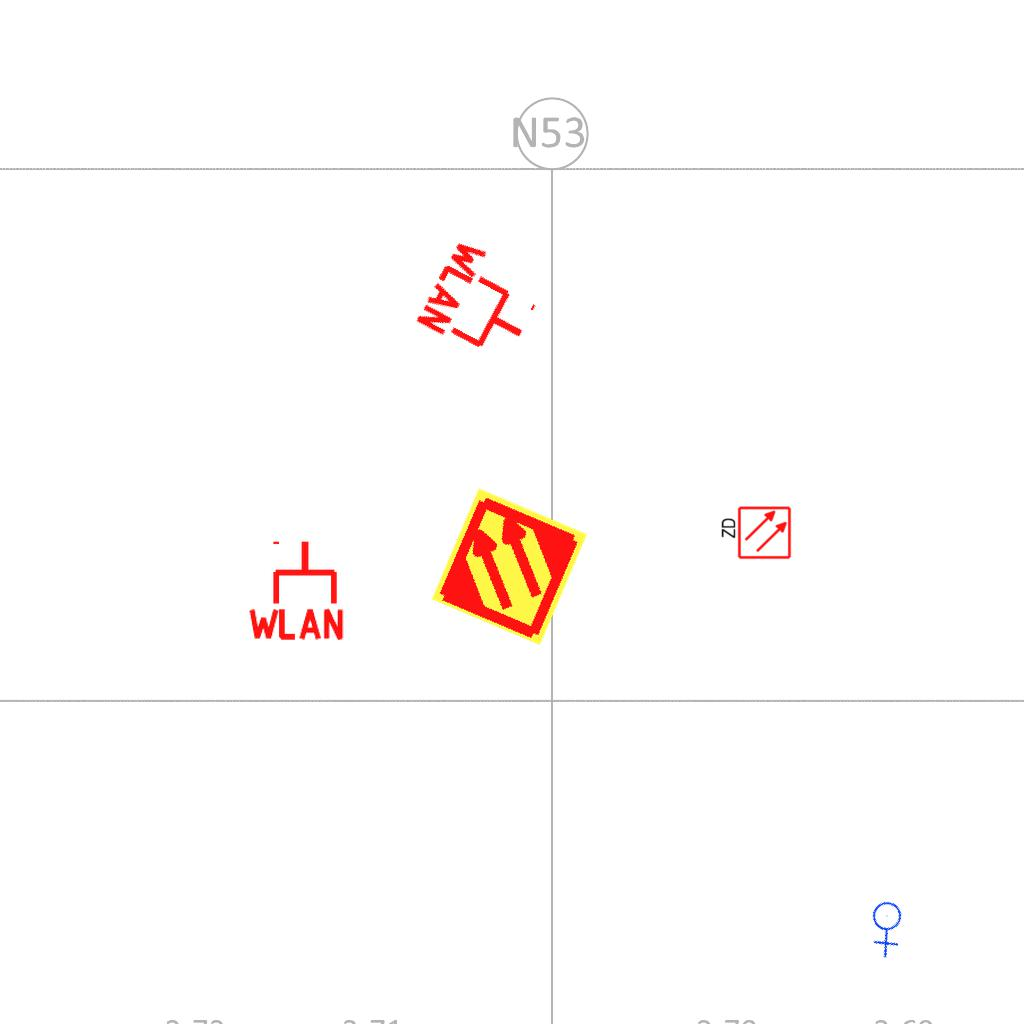ASR_Ansaugrauchmelder: (427, 484, 592, 649)
Elektroanschluss_allgemein_230V_Geraeteanschlussdose_230V: (854, 892, 923, 961)
WLAN: (411, 232, 554, 374), (244, 537, 348, 642)
ZD_Melder_in_Zwischendecke_mit_Revisionsoeffnung_mind_40_x_40_cm: (718, 505, 792, 562)
